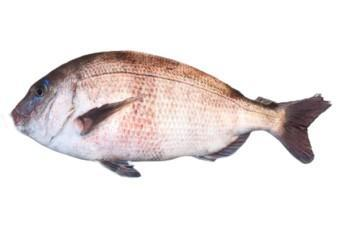fish: (11, 50, 332, 178)
